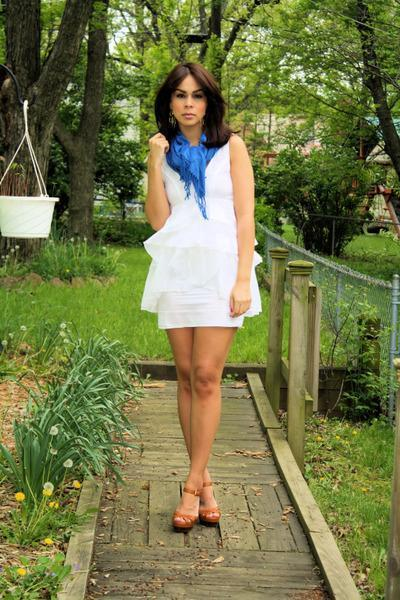dress: (141, 143, 261, 328)
shoe: (168, 513, 220, 543)
